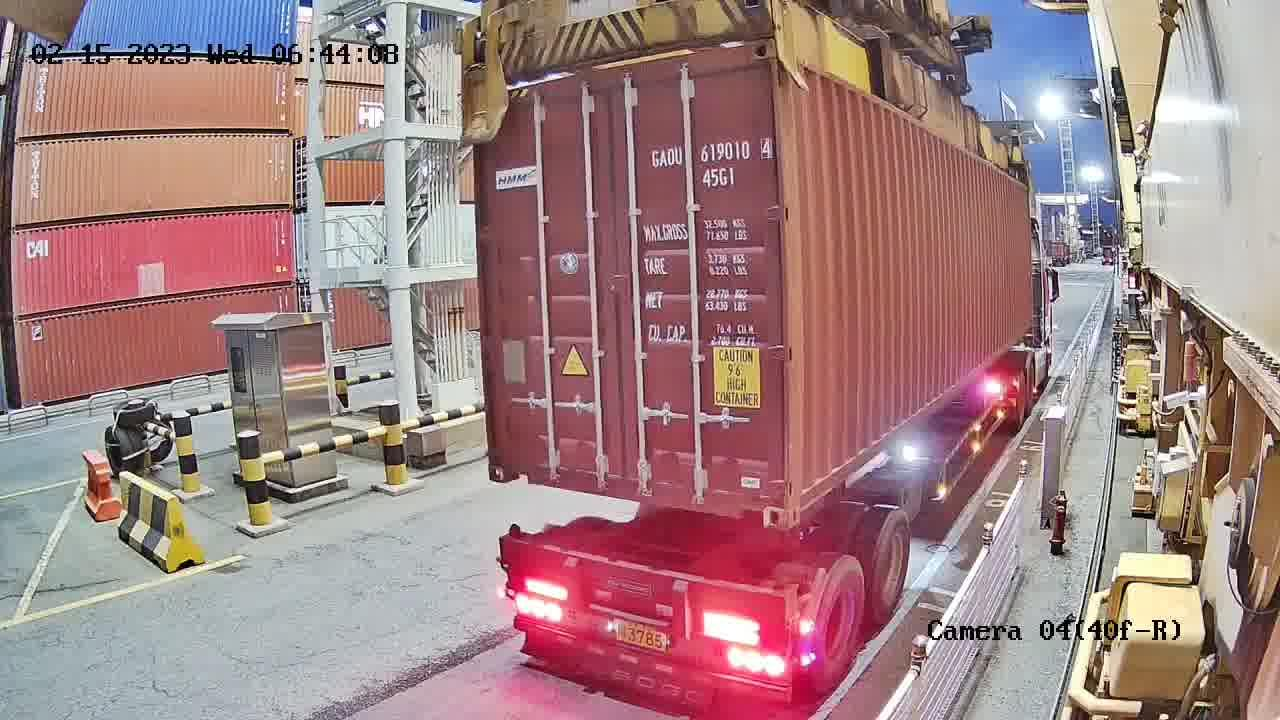Chassis: (501, 539, 794, 630)
Cone: (762, 576, 794, 617), (502, 518, 524, 561)
Hole_L: (788, 446, 837, 527), (488, 438, 539, 481)
Hole_R: (740, 460, 790, 530)
Tire: (810, 561, 866, 679), (873, 511, 912, 614)
